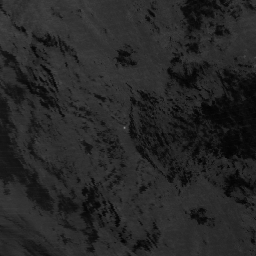Target: (122, 126, 127, 131)
